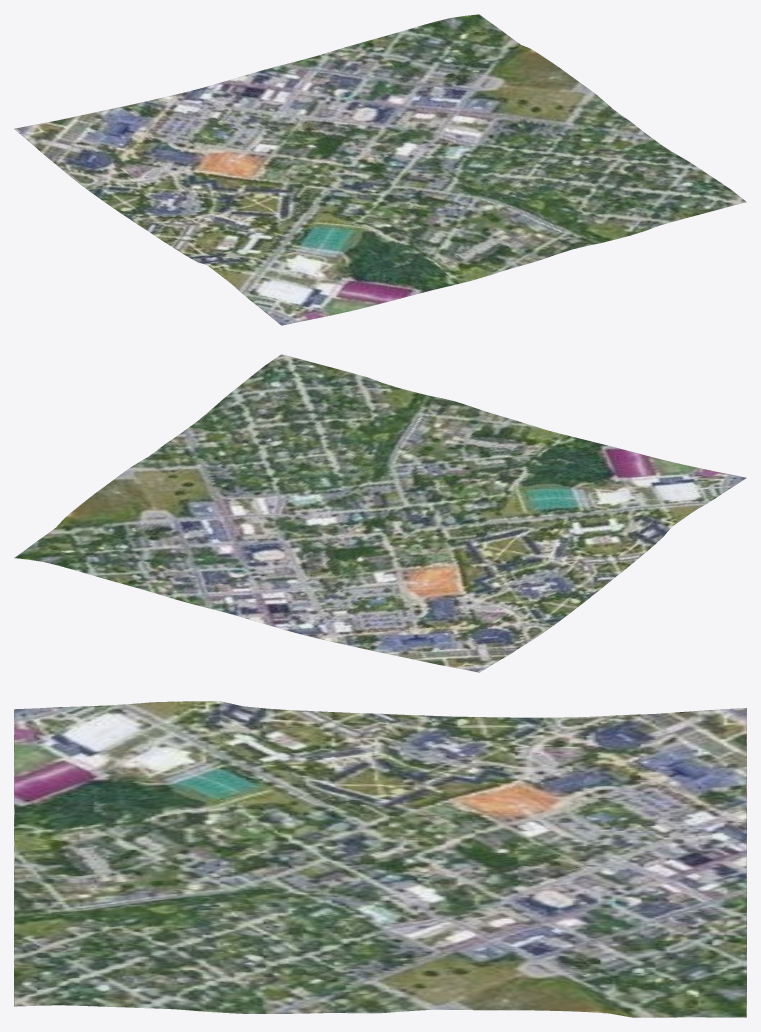
3 views of the same model, one above another, from view 1: azimuth 30°, elevation 25°; view 2: azimuth 150°, elevation 25°; view 3: azimuth 270°, elevation 25° (orthographic). The views are drawn at different scales.
Size of the model in its own units: 975 by 35.19 by 971.
1 material, 1 textured.
